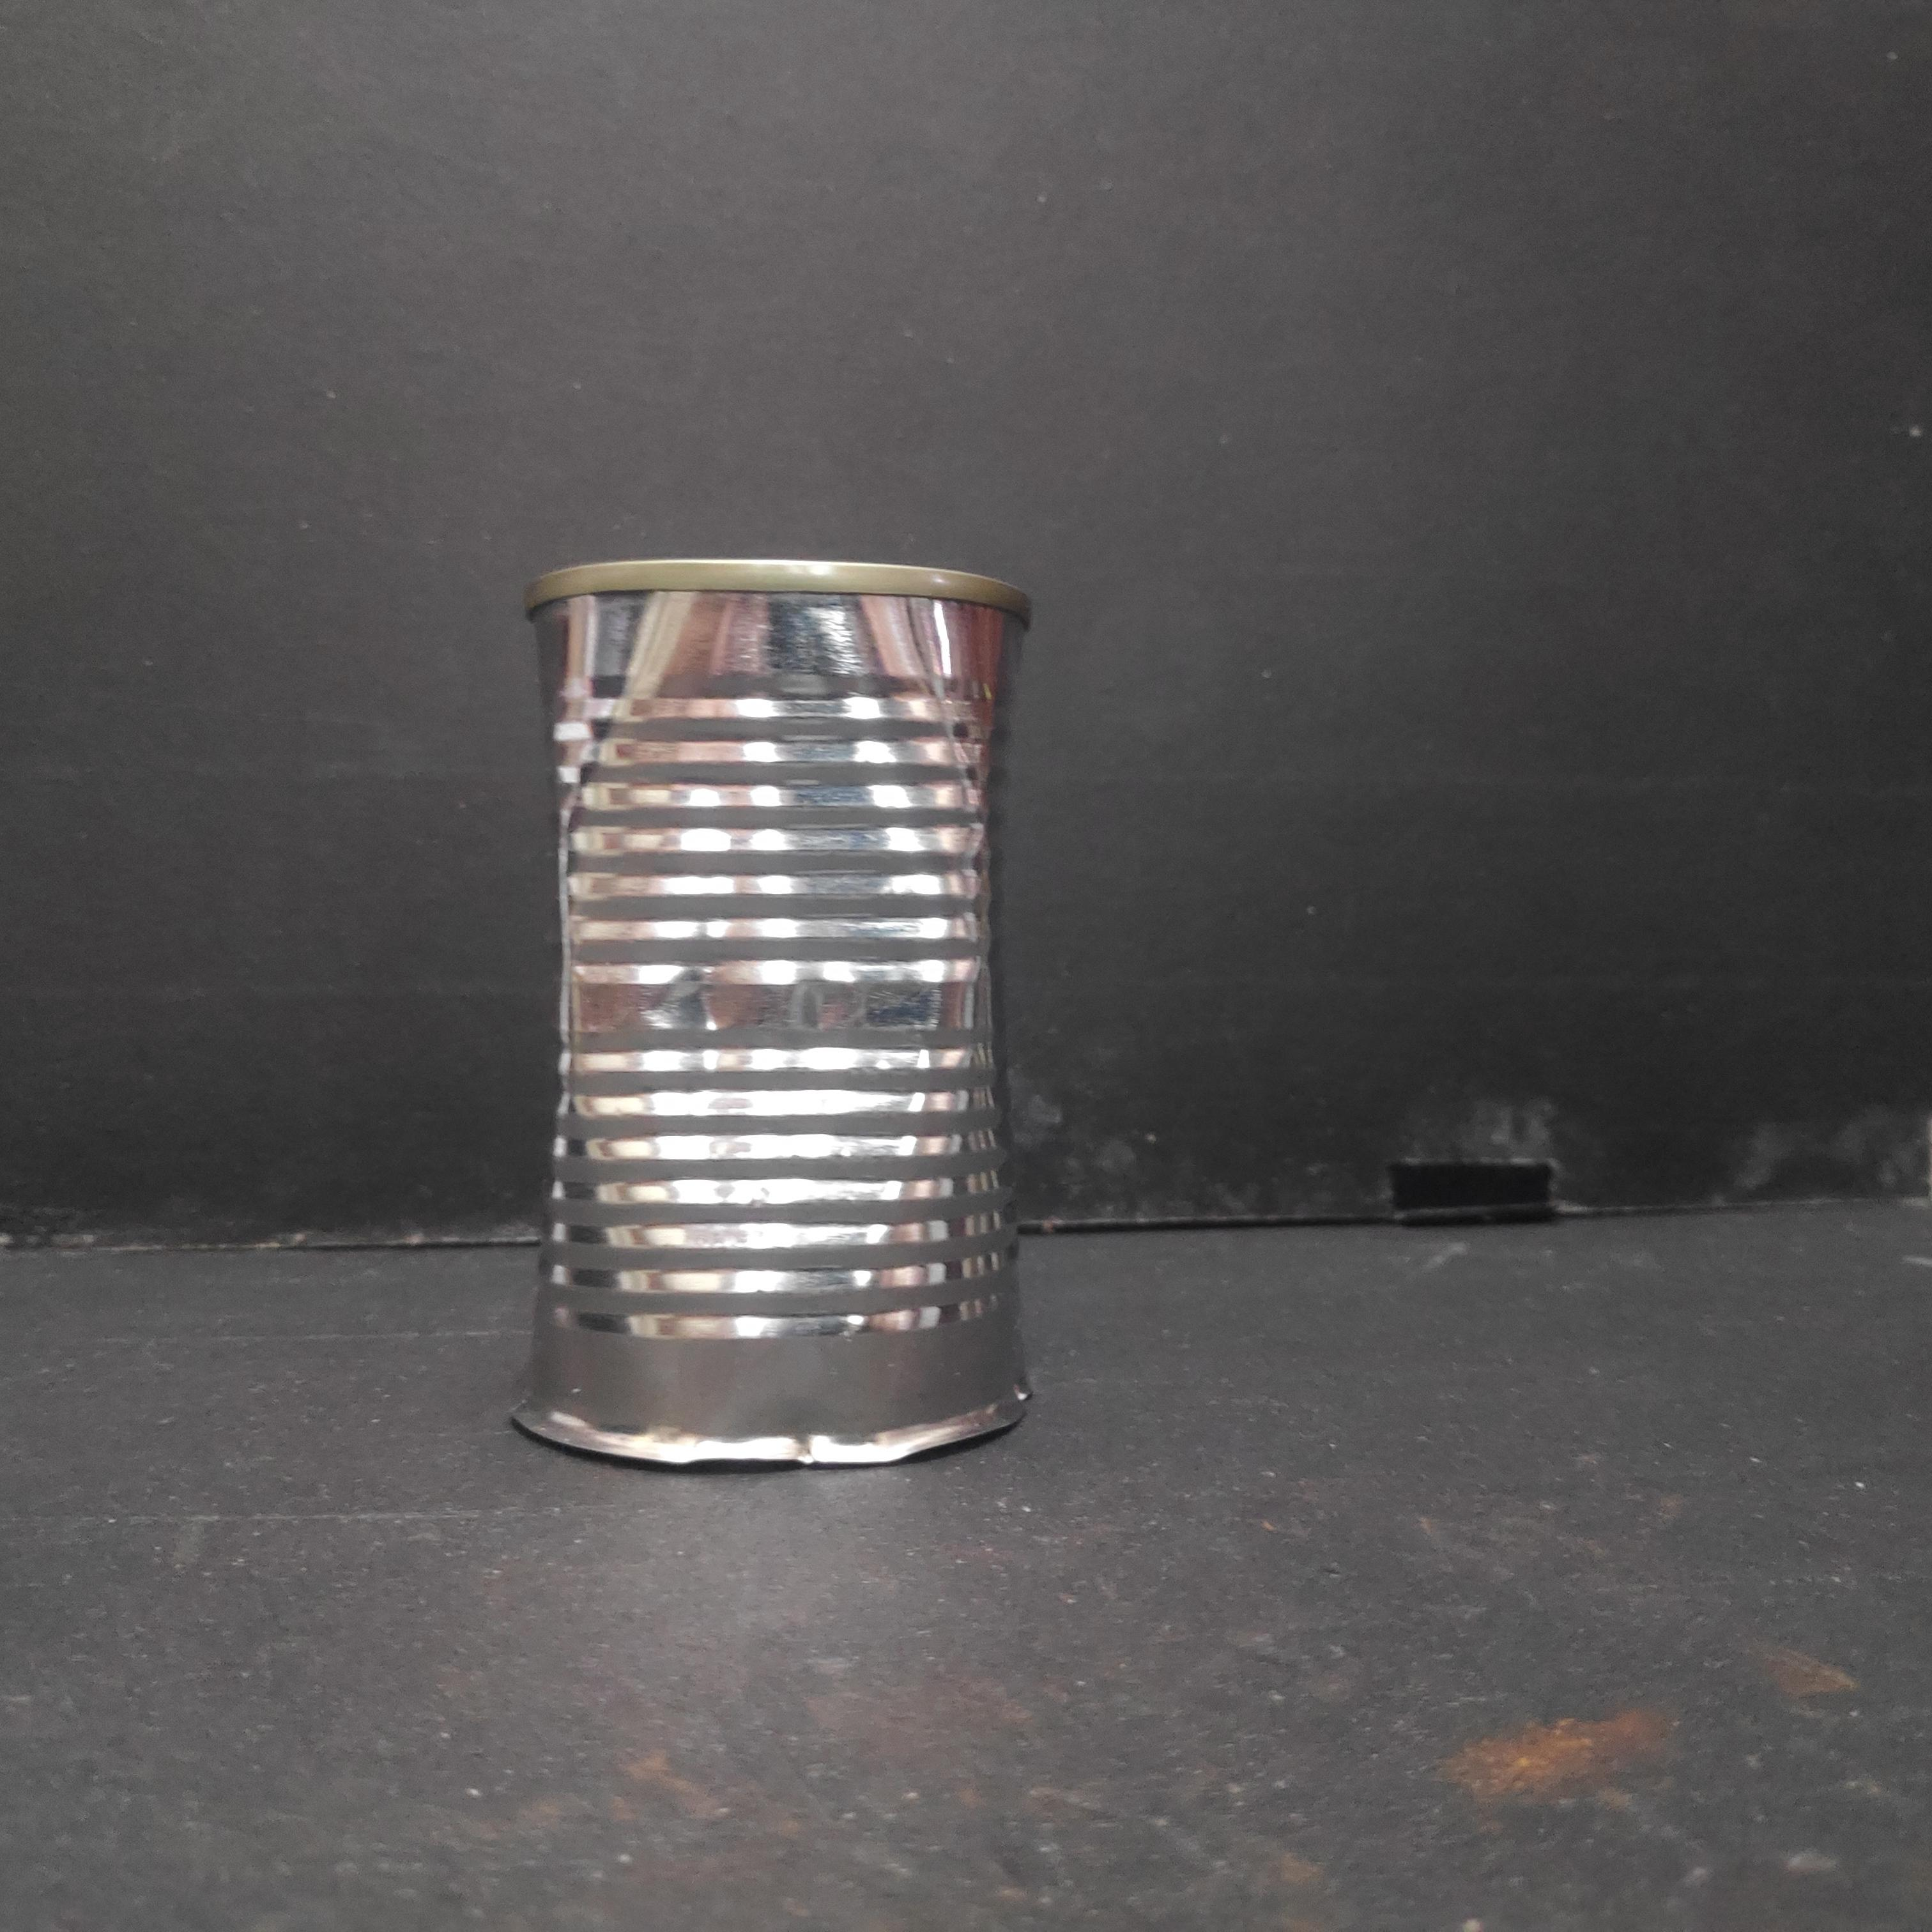Minor Defect: (510, 543, 1033, 1479)
